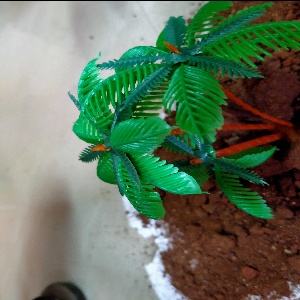plant: (63, 1, 300, 225)
